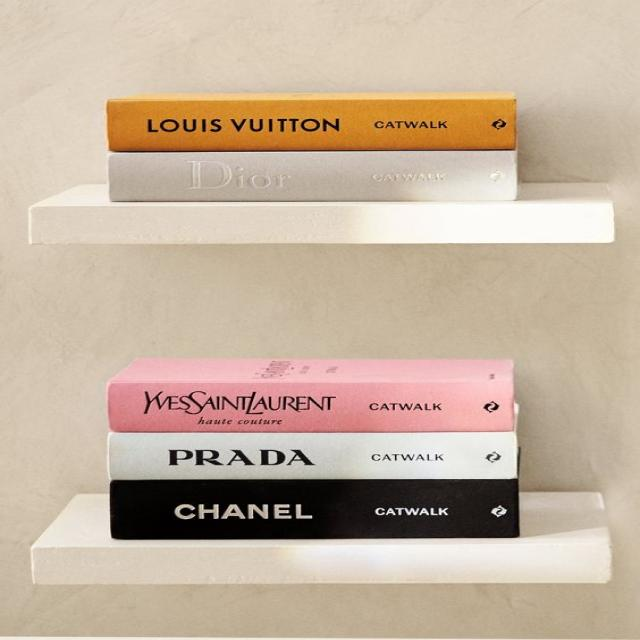book: (116, 484, 520, 536), (111, 102, 513, 151), (110, 378, 518, 426), (111, 150, 514, 196), (105, 433, 515, 476)
